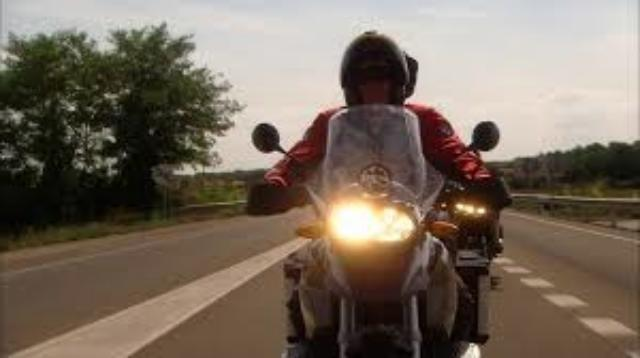helm: (338, 26, 423, 113)
motor: (245, 117, 514, 358)
